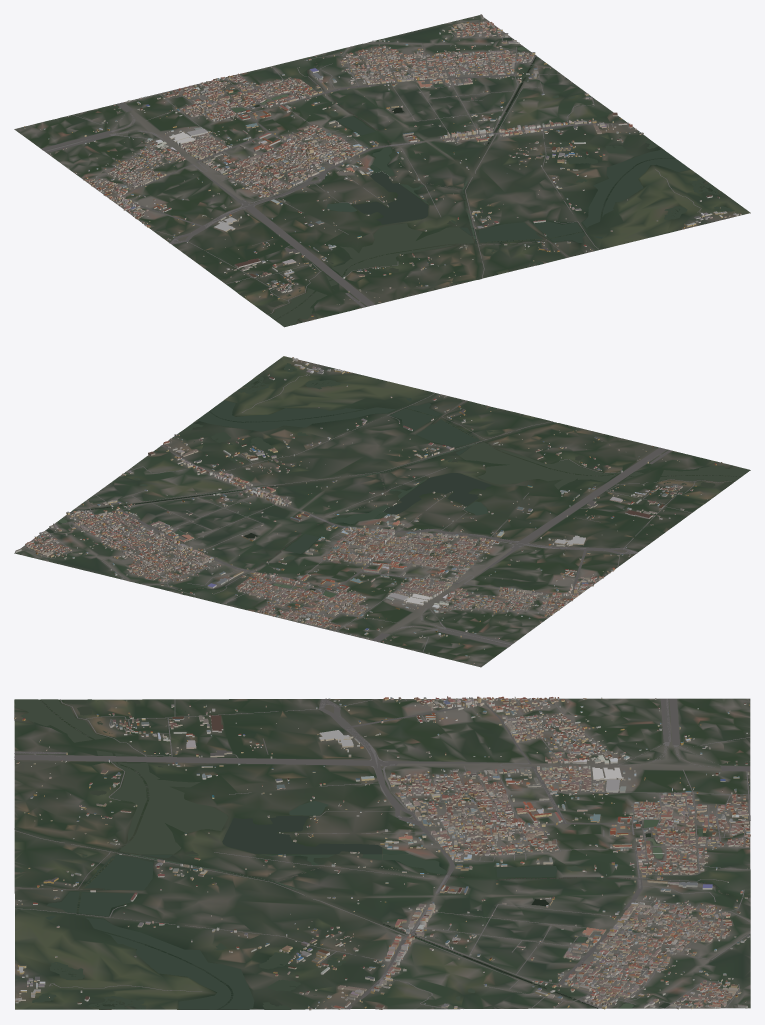
The picture shows the model from 3 angles, top to bottom: view 1: azimuth 30°, elevation 25°; view 2: azimuth 150°, elevation 25°; view 3: azimuth 270°, elevation 25°; orthographic projection. The views are drawn at different scales.
Visible parts, largest first — view 1: ground, buildings, water, roads; view 2: ground, buildings, water, roads; view 3: ground, buildings, water, roads.
Part boxes in pixels (x1=…): ground: x1=14, y1=15, x2=750, y2=327; buildings: x1=24, y1=14, x2=741, y2=319; water: x1=132, y1=38, x2=734, y2=326; roads: x1=41, y1=21, x2=702, y2=321; ground: x1=14, y1=356, x2=750, y2=667; buildings: x1=15, y1=357, x2=722, y2=664; water: x1=46, y1=363, x2=749, y2=606; roads: x1=23, y1=374, x2=733, y2=652; ground: x1=14, y1=698, x2=750, y2=1009; buildings: x1=14, y1=696, x2=750, y2=1010; water: x1=14, y1=699, x2=748, y2=1009; roads: x1=14, y1=698, x2=750, y2=1009.
Bounding box in the file's own units: 2814 × 30.75 × 2809.
